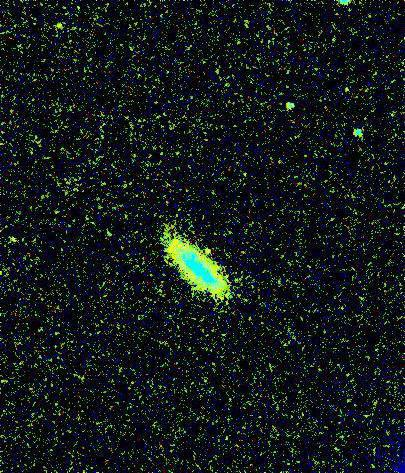star: (197, 234, 227, 264)
